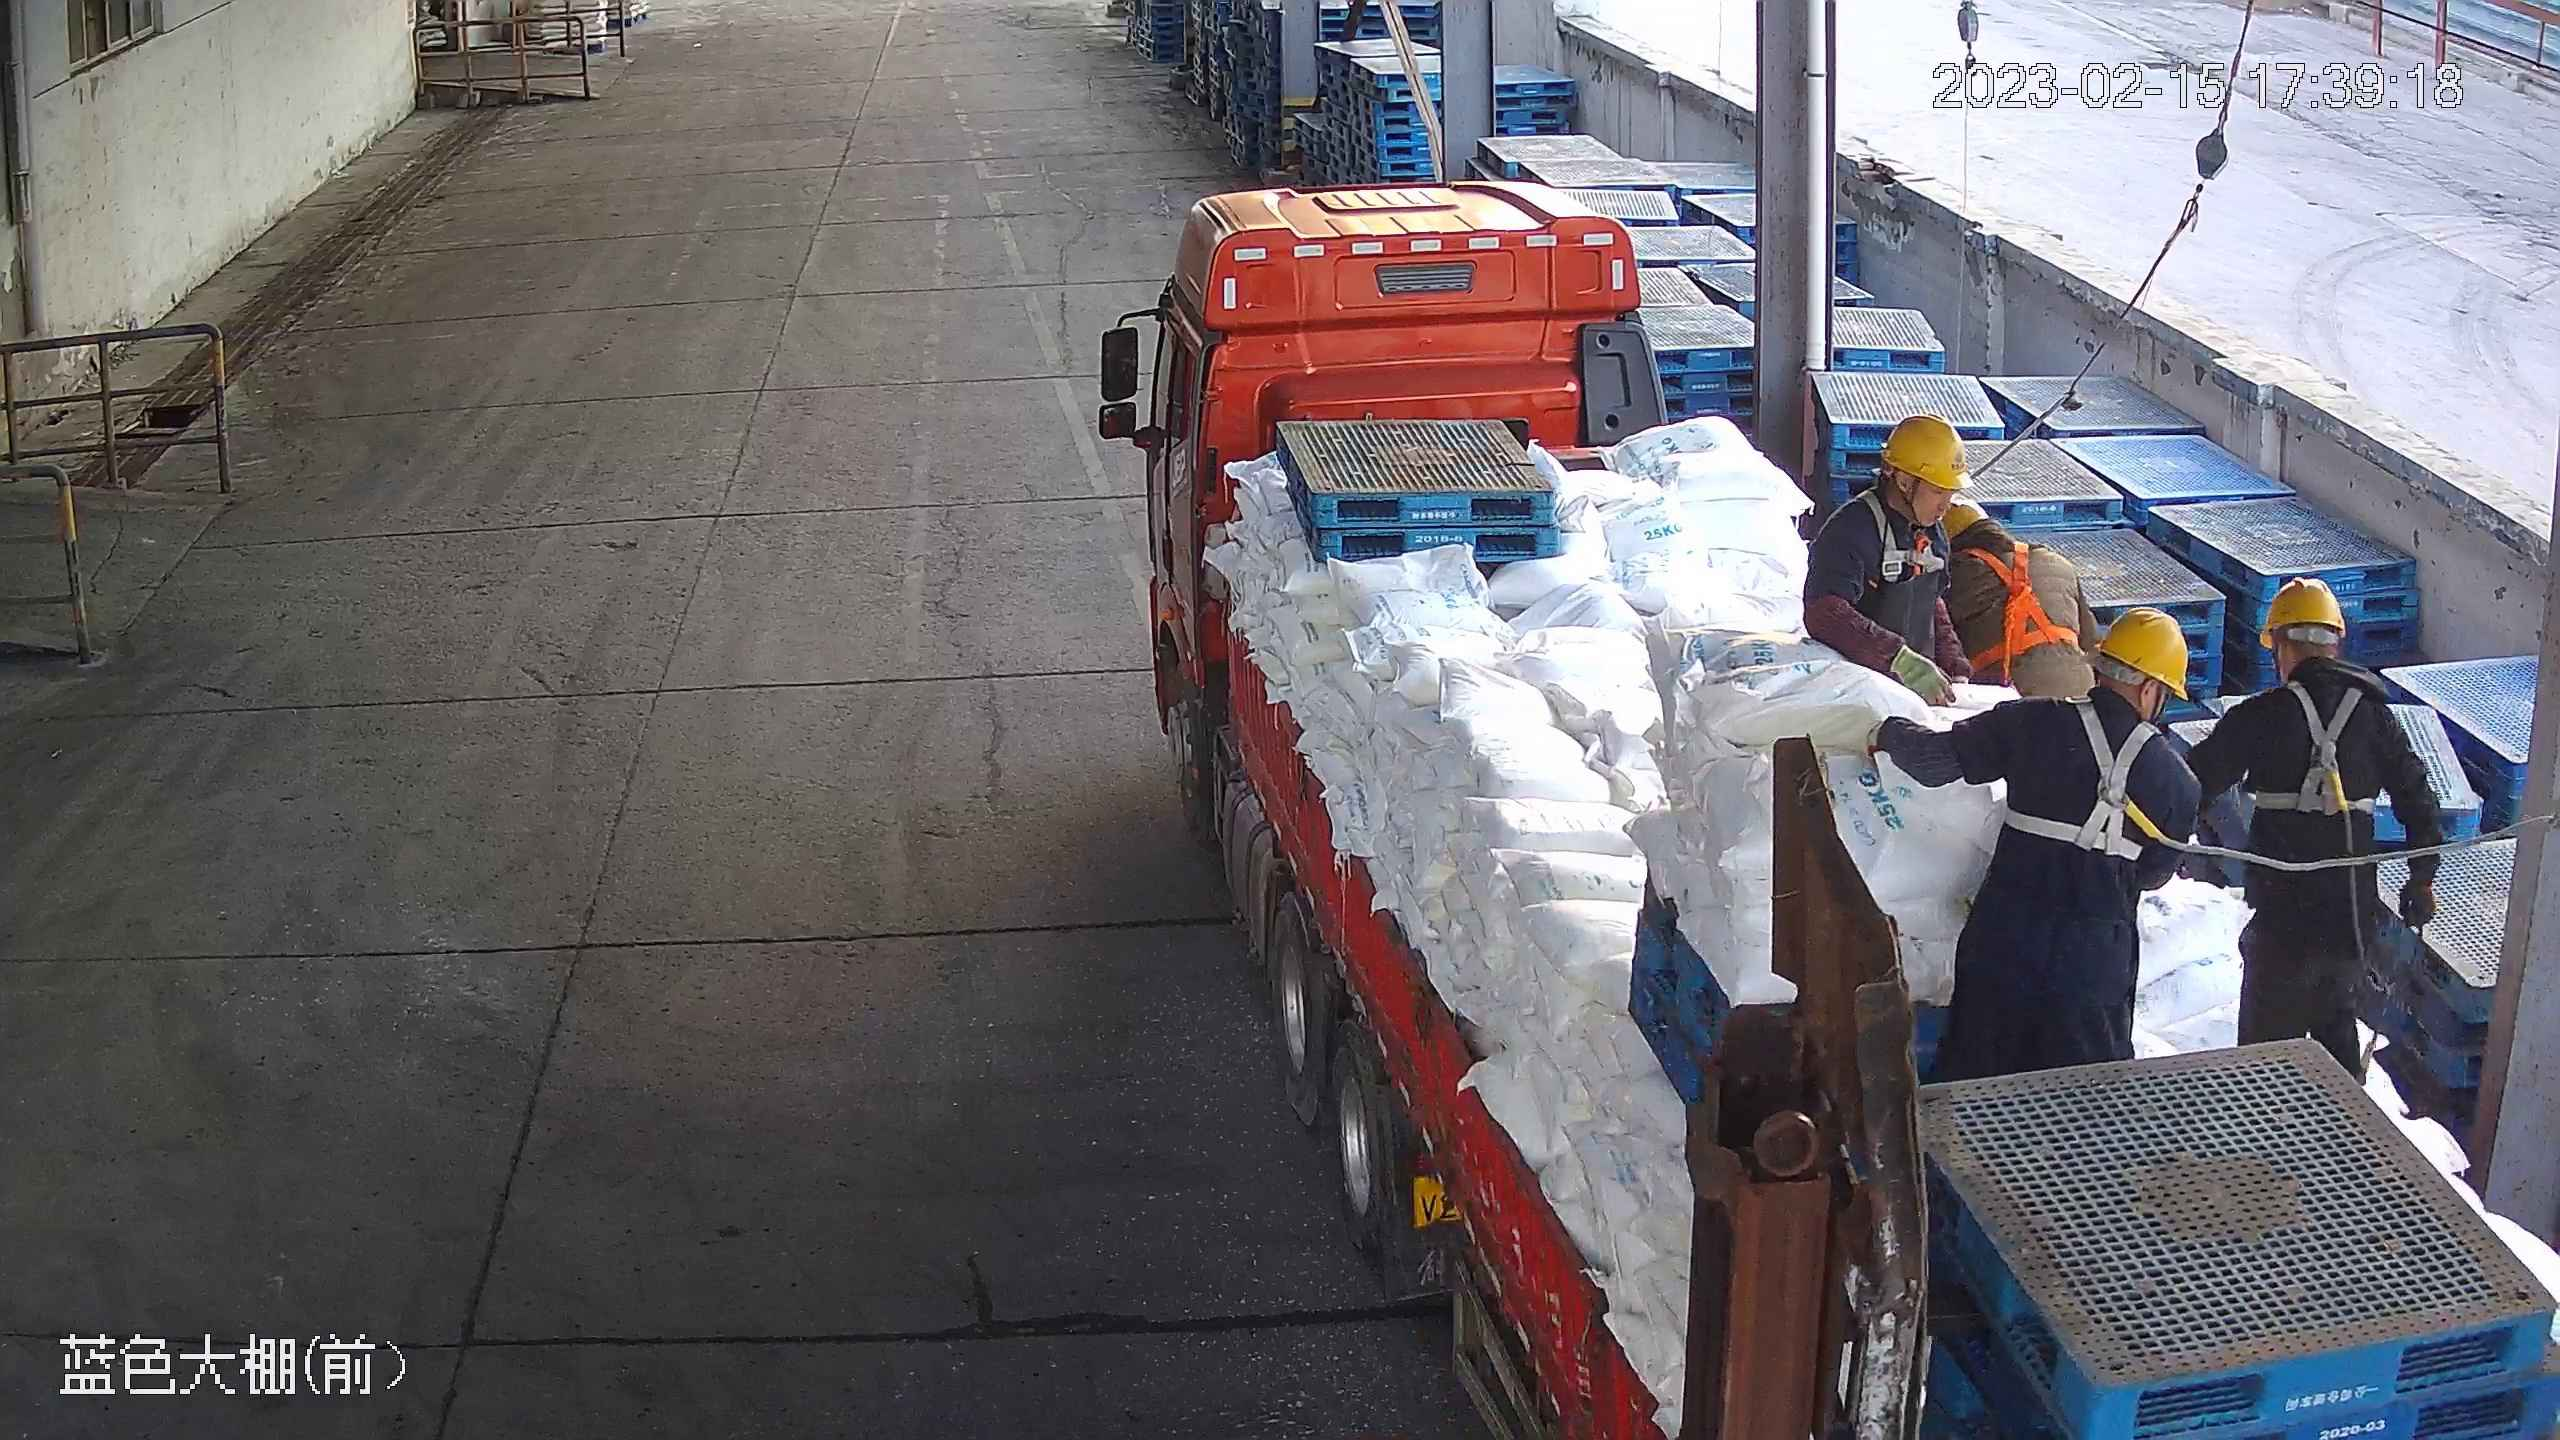belt: (2003, 693, 2171, 865), (1952, 538, 2088, 677), (2253, 679, 2381, 826), (1856, 472, 1980, 588)
head: (1991, 605, 2203, 806), (2214, 576, 2413, 740), (1817, 410, 1986, 569)
helmet: (2094, 607, 2190, 703), (1877, 411, 1977, 490), (2257, 575, 2346, 649)
truck: (1143, 177, 2560, 1440)
